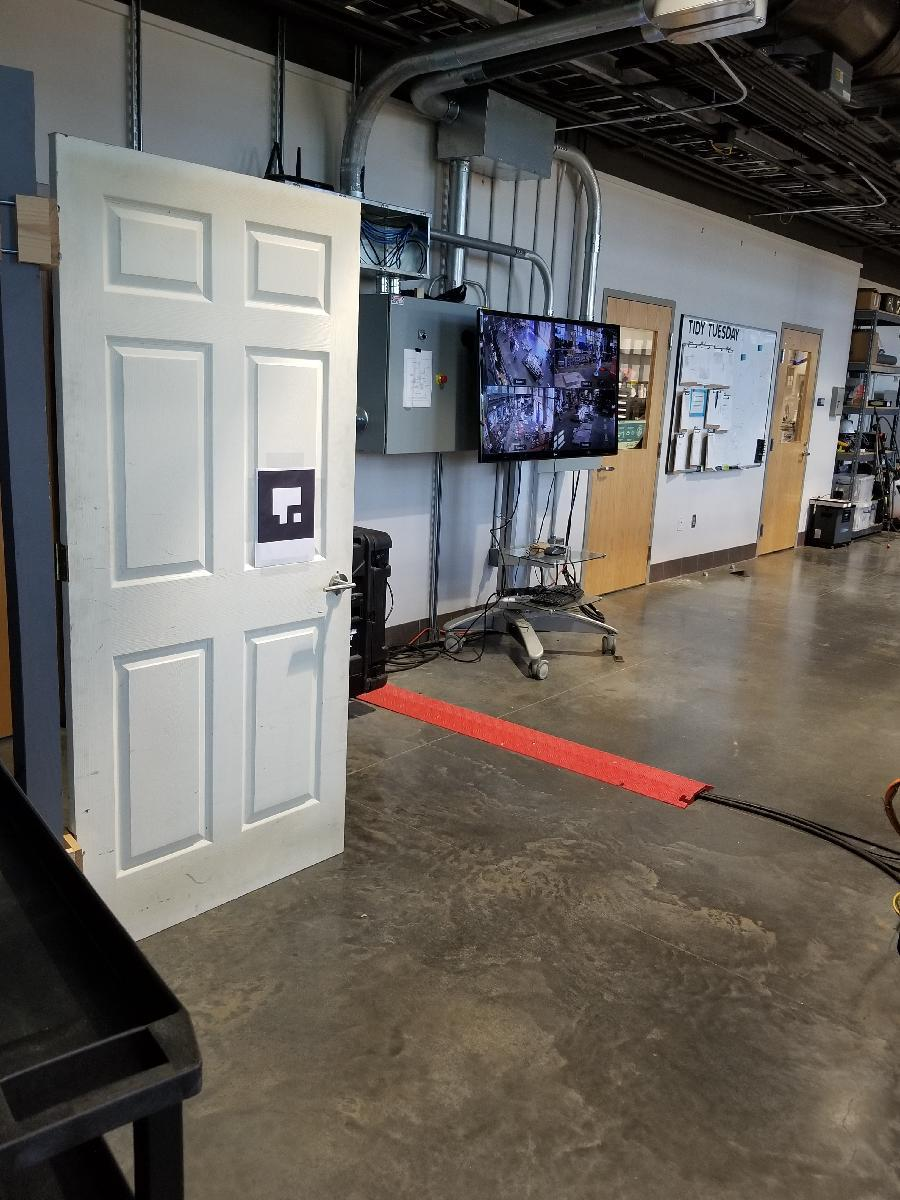door: (56, 138, 350, 925)
handle: (320, 571, 358, 597)
